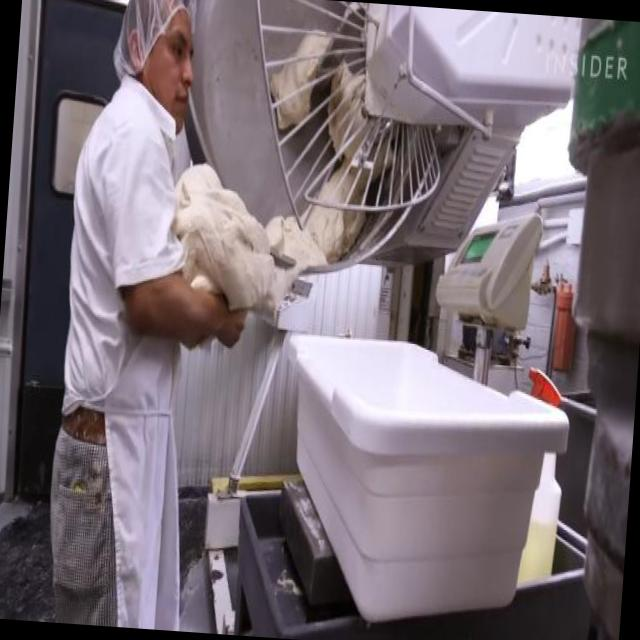hairnet: (114, 0, 193, 62)
